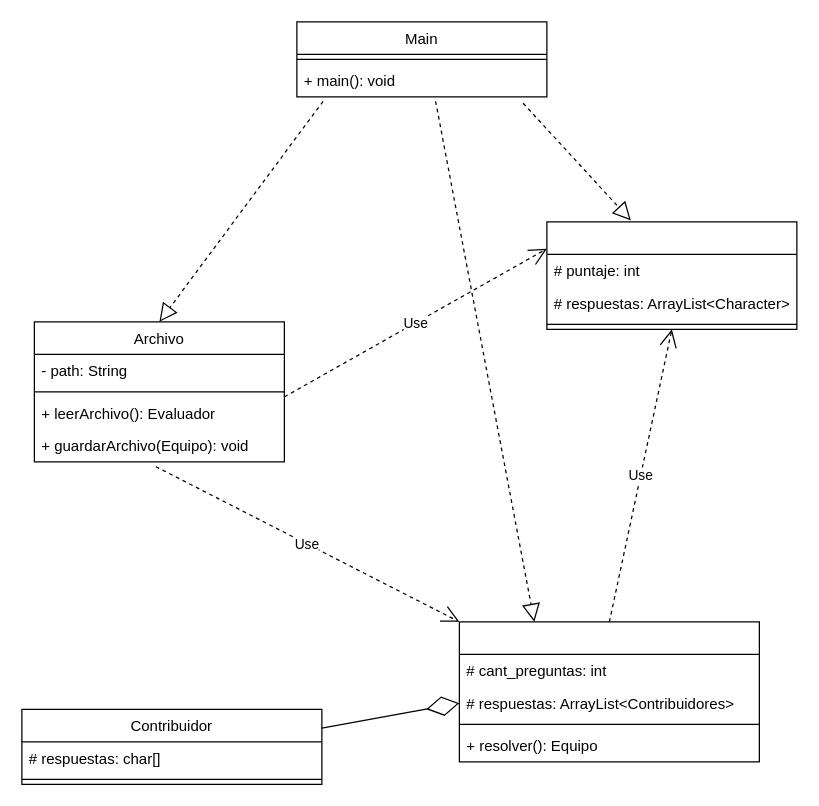
Some shapes in this 819 by 806 pixel diagram are drawn without their labels. Here are the shapes that lost their labels. From the top down, the box of each, then its label:
(546, 221, 797, 329): Equipo
(458, 621, 759, 762): Evaluador
